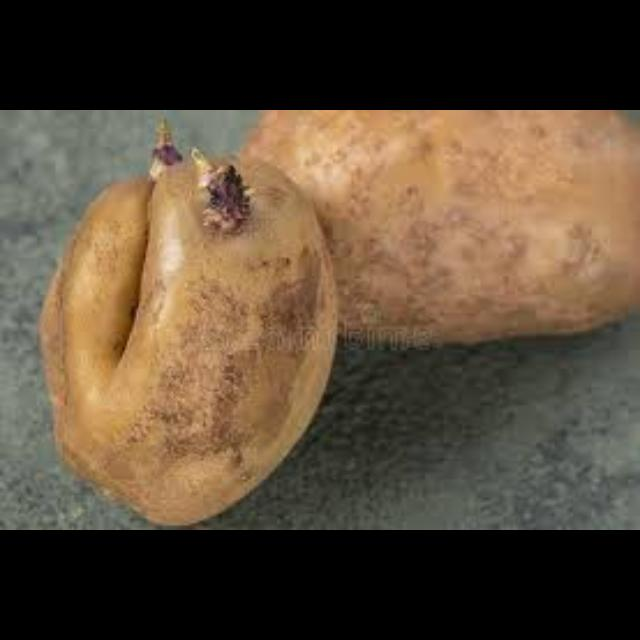Damaged potato: (225, 110, 640, 354)
Sprouted potato: (39, 122, 353, 530)
